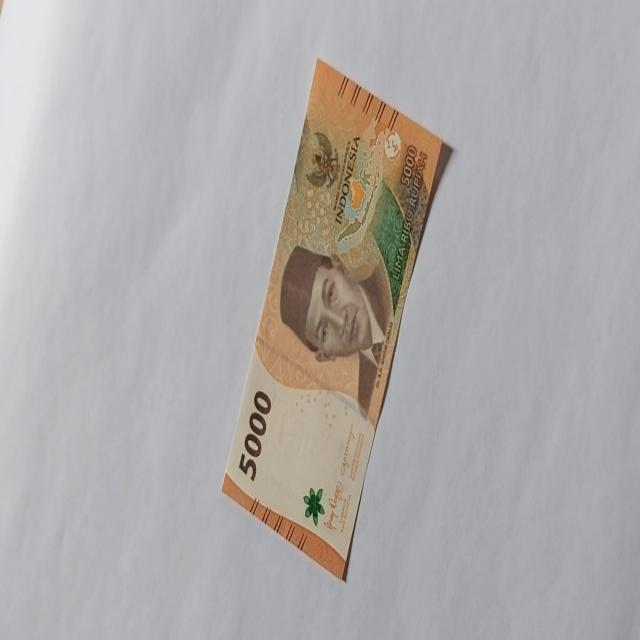lima ribu rupiah: (220, 57, 455, 580)
